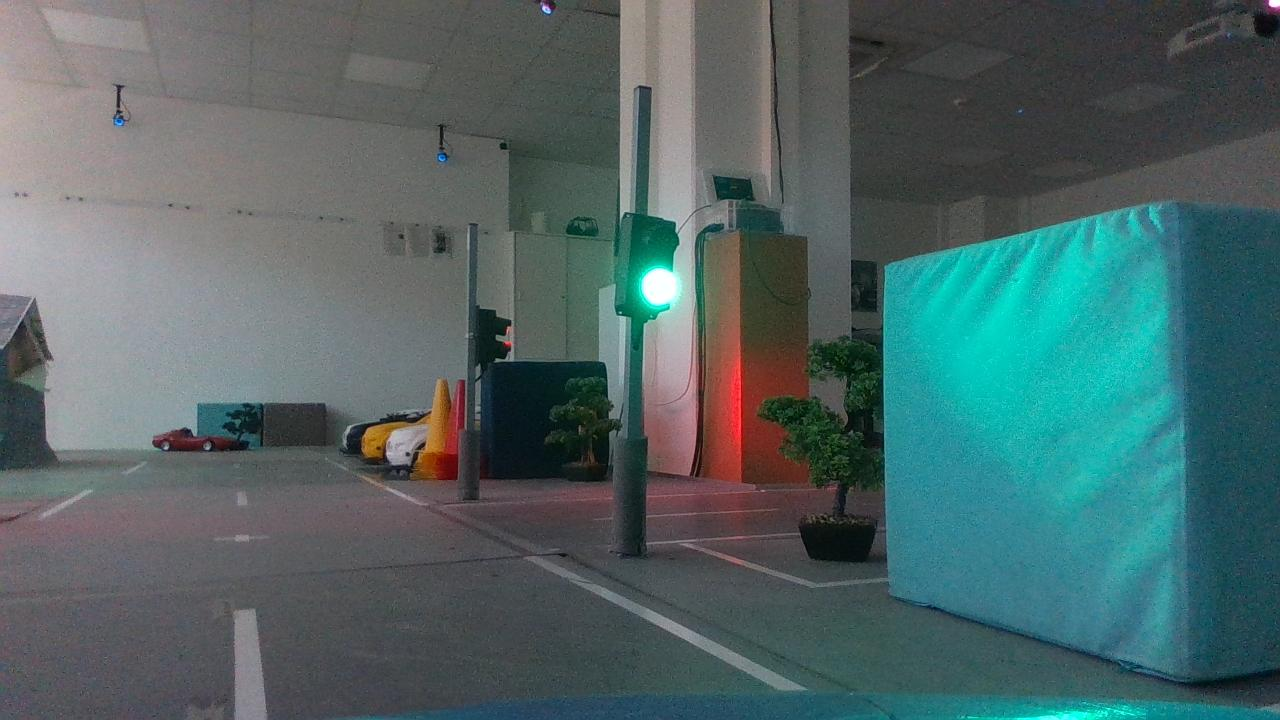traffic_light_green: (603, 199, 698, 329)
